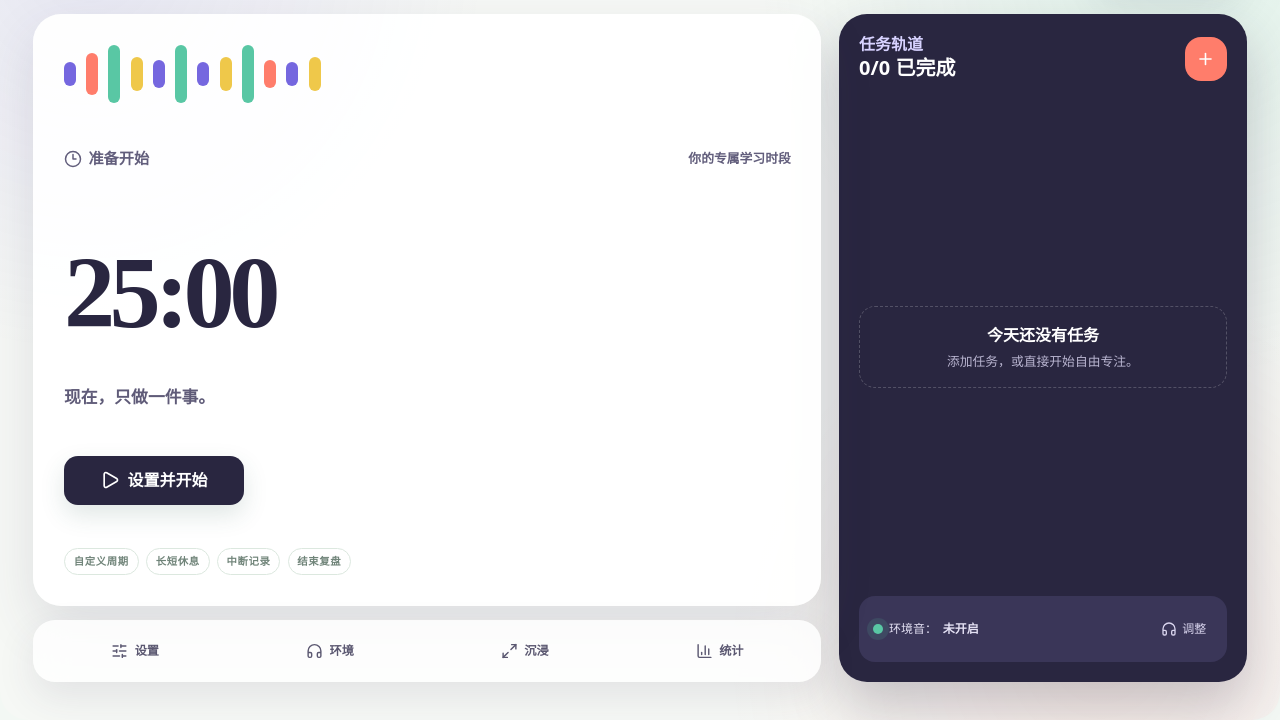
Test: uses a valid subject from a library handoff
(page scrolled)
What coordinates should you click on to do the following:
click the button with aria-label "专注设置"
I would click on:
 (135, 651)
Its box is x1=42 y1=629 x2=228 y2=673.
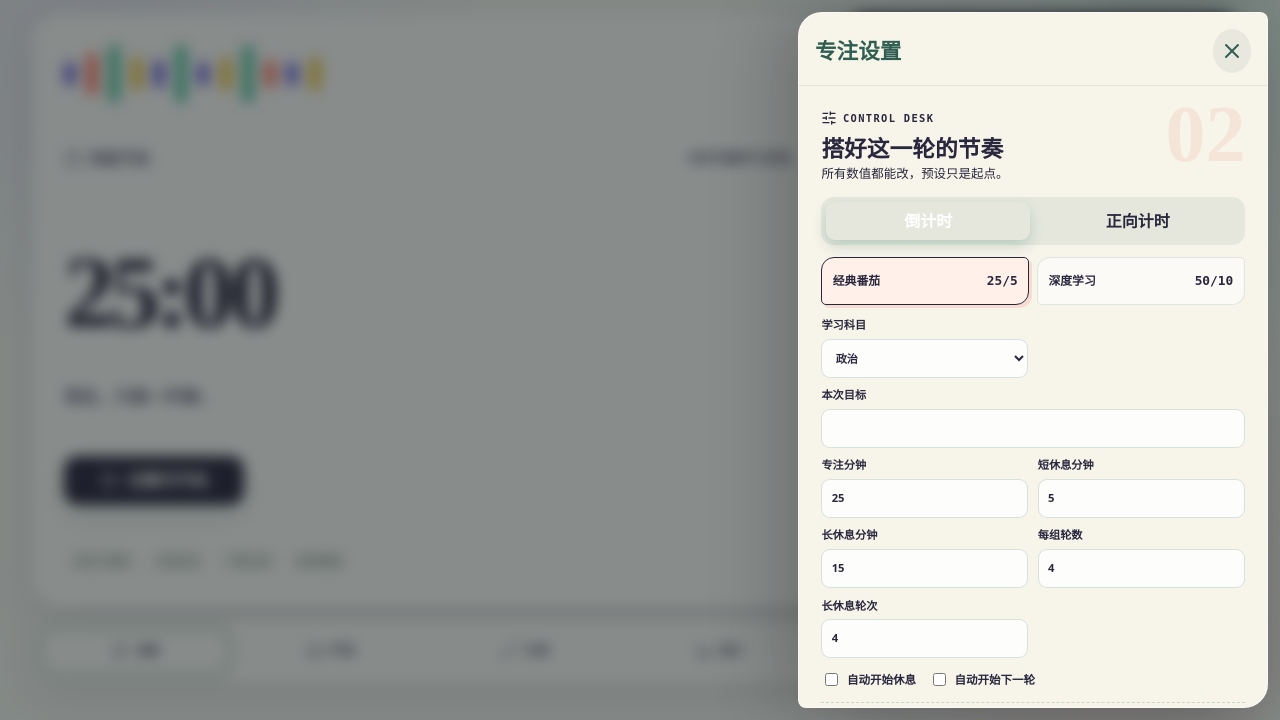
Check: the dropdown labelled "学习科目" shows "政治", box x1=821 y1=338 x2=1028 y2=378
